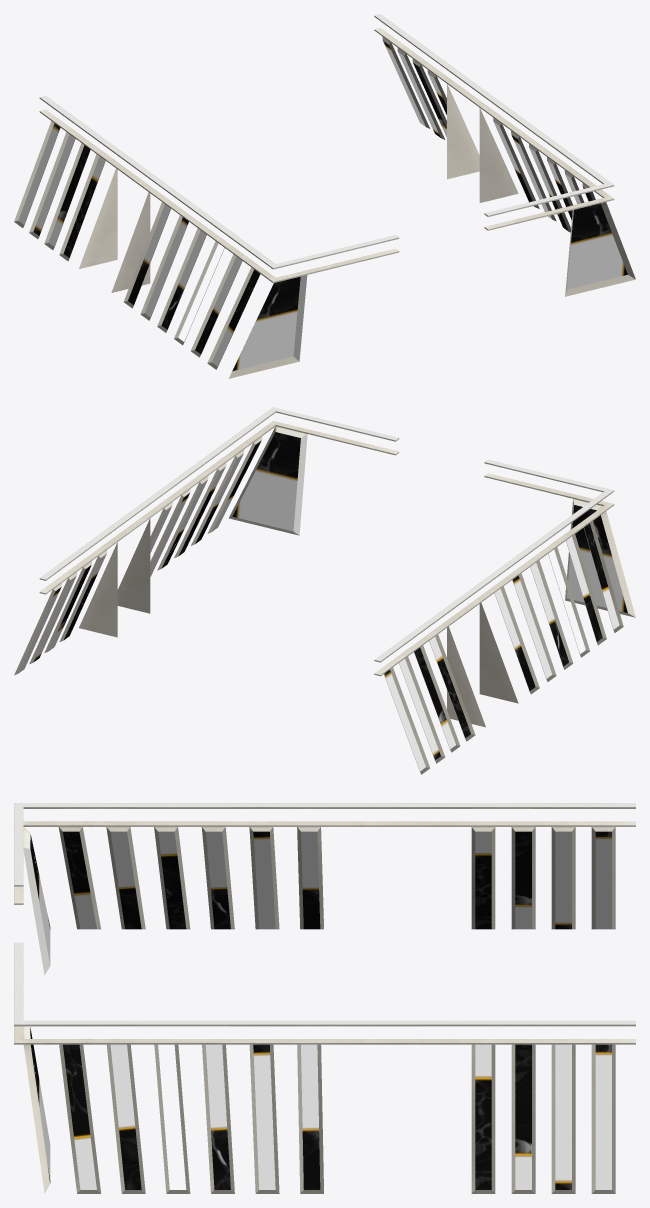
File: Upstairs.Balcony.002.fbx
The picture shows the model from 3 angles, top to bottom: view 1: azimuth 30°, elevation 25°; view 2: azimuth 150°, elevation 25°; view 3: azimuth 270°, elevation 25°; orthographic projection. The views are drawn at different scales.
Parts seen in each view (by area): view 1: spect walkway.003, railing 1.003; view 2: spect walkway.003, railing 1.003; view 3: spect walkway.003, railing 1.003.
Boxes of the visible parts, box(x1,y1,x2,y2) form: spect walkway.003: box(14, 36, 635, 378); railing 1.003: box(39, 14, 614, 283); spect walkway.003: box(14, 426, 635, 774); railing 1.003: box(39, 407, 614, 676); spect walkway.003: box(23, 827, 615, 1193); railing 1.003: box(14, 803, 635, 1044).
Size of the model in its own units: 27.73 by 27.54 by 7.22.
